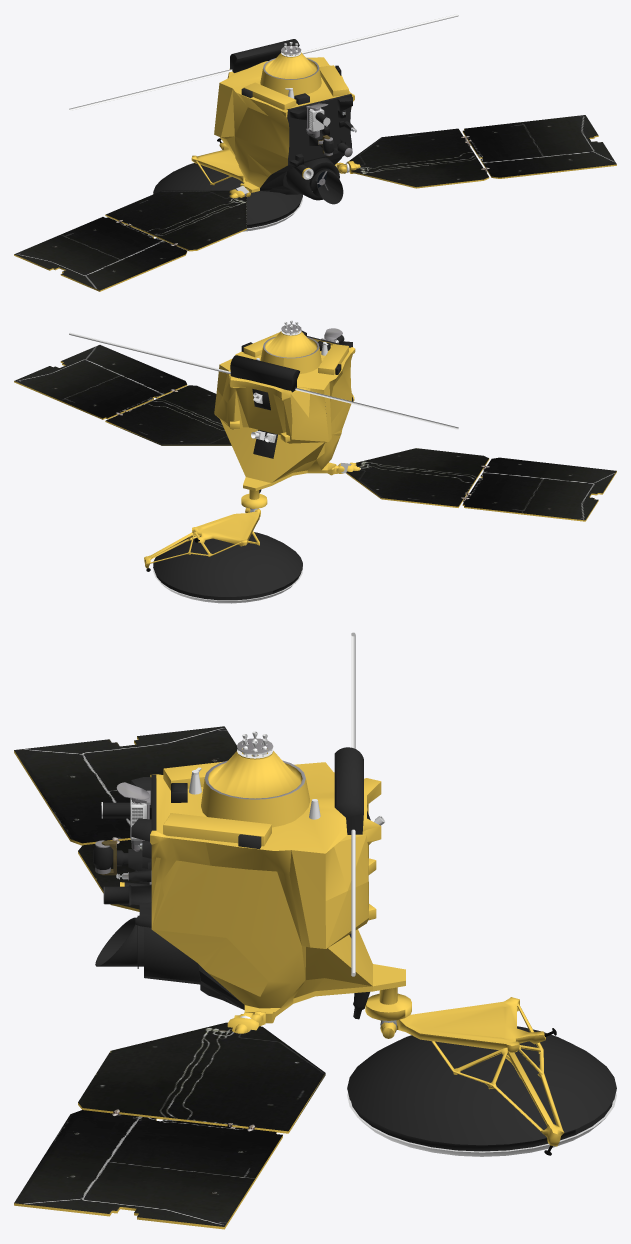
File: MRO.gltf
3 views of the same model, one above another, from view 1: azimuth 30°, elevation 25°; view 2: azimuth 150°, elevation 25°; view 3: azimuth 270°, elevation 25° (orthographic). The views are drawn at different scales.
Visible parts, largest first — view 1: BUS_foil_gold, black_krinkle, tex_01, tex_01.001, tex_02, tex_02.001, foil_silver; view 2: BUS_foil_gold, black_krinkle, tex_01, tex_01.001, tex_02, tex_02.001, foil_silver, foil_silver_dish; view 3: BUS_foil_gold, black_krinkle, tex_01, tex_02.001, tex_01.001, foil_silver, foil_silver_dish, tex_02.
Boxes of the visible parts, left/top/right/bottom form: BUS_foil_gold: left=191, top=52, right=360, bottom=196; black_krinkle: left=153, top=39, right=353, bottom=228; tex_01: left=217, top=46, right=616, bottom=190; tex_01.001: left=14, top=214, right=246, bottom=291; tex_02: left=106, top=190, right=246, bottom=249; tex_02.001: left=346, top=128, right=488, bottom=187; foil_silver: left=69, top=14, right=458, bottom=179; BUS_foil_gold: left=144, top=331, right=355, bottom=568; black_krinkle: left=153, top=330, right=353, bottom=600; tex_01: left=14, top=324, right=344, bottom=571; tex_01.001: left=346, top=457, right=616, bottom=521; tex_02: left=346, top=448, right=488, bottom=506; tex_02.001: left=106, top=385, right=230, bottom=444; foil_silver: left=69, top=320, right=458, bottom=442; foil_silver_dish: left=153, top=567, right=302, bottom=603; BUS_foil_gold: left=120, top=748, right=564, bottom=1146; black_krinkle: left=93, top=747, right=616, bottom=1151; tex_01: left=14, top=738, right=556, bottom=1229; tex_02.001: left=78, top=1022, right=325, bottom=1131; tex_01.001: left=14, top=726, right=237, bottom=911; foil_silver: left=189, top=632, right=385, bottom=1018; foil_silver_dish: left=347, top=1092, right=616, bottom=1156; tex_02: left=78, top=840, right=141, bottom=909.
Size of the model in its own units: 13.18 by 4.88 by 6.71.
